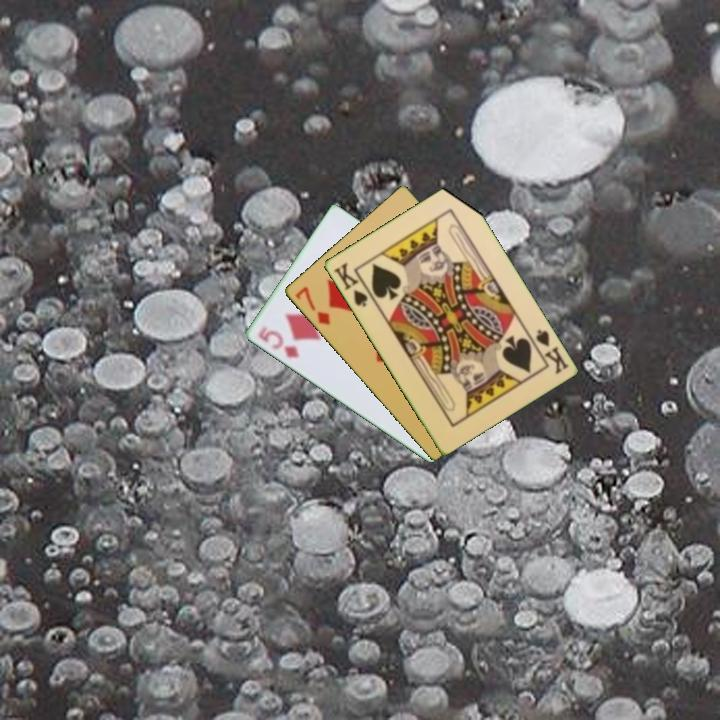5d: (254, 323, 302, 361)
7d: (291, 283, 333, 328)
Ks: (329, 259, 375, 310), (525, 326, 571, 377)
